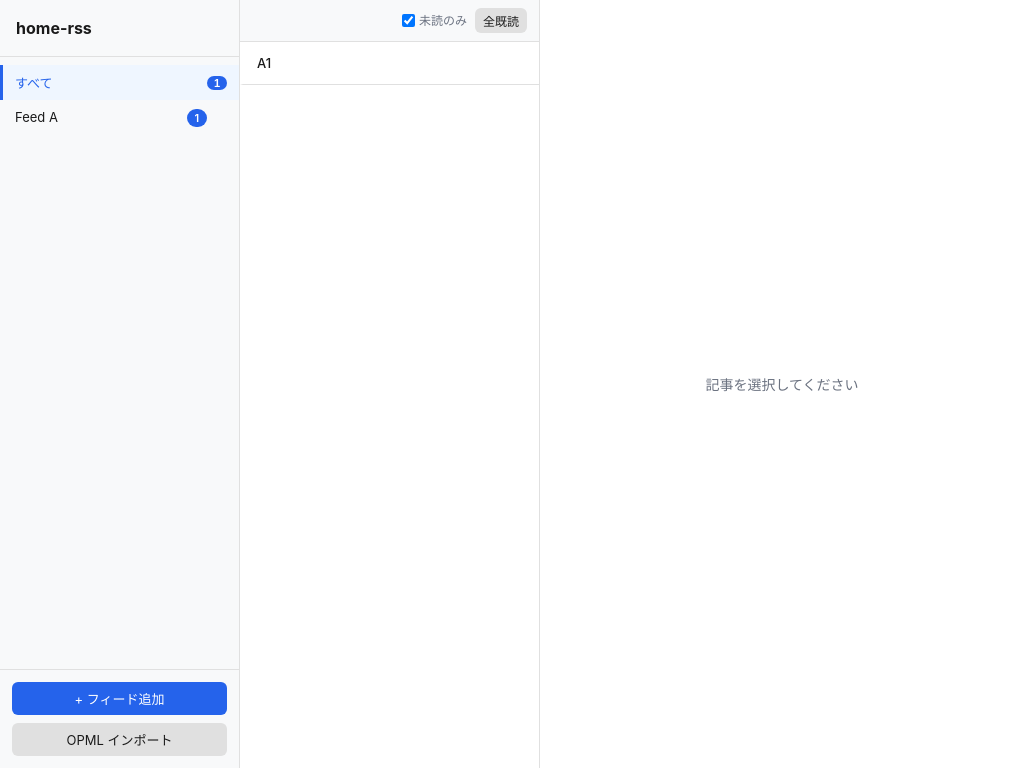
Test: App › adding a feed › still reloads the lists, and shows why, when the add fails
This screenshot has width=1024, height=768.
Click the button "+ フィード追加". click: (120, 698)
box: top-left (12, 682), bottom-right (227, 715)
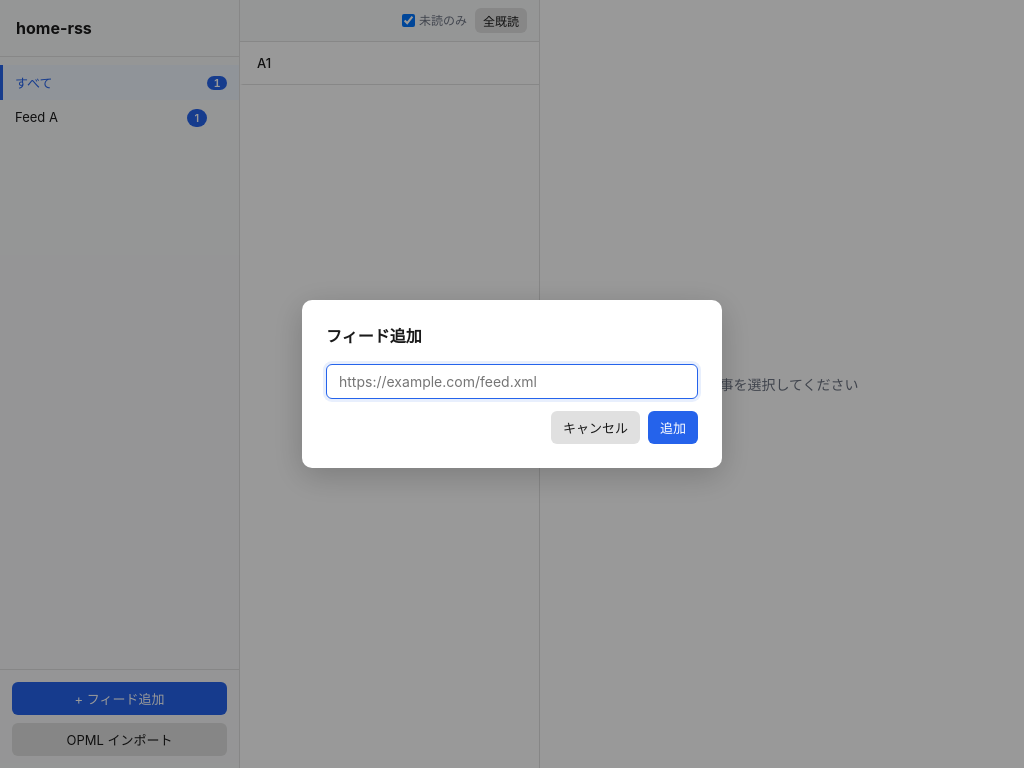
Type "https://fb.example/feed.xml" into the field with placeholder "https://example.com/feed.xml". click: (512, 382)
box: top-left (326, 364), bottom-right (698, 399)
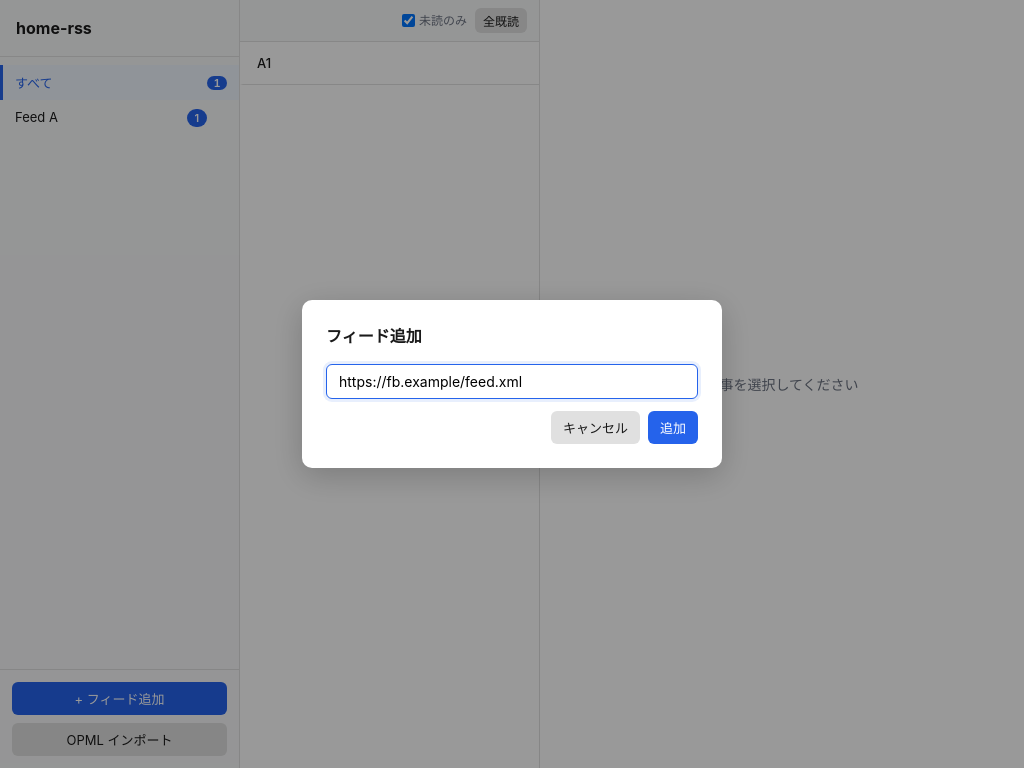
Click the button "追加". click: (673, 428)
box: top-left (648, 411), bottom-right (698, 444)
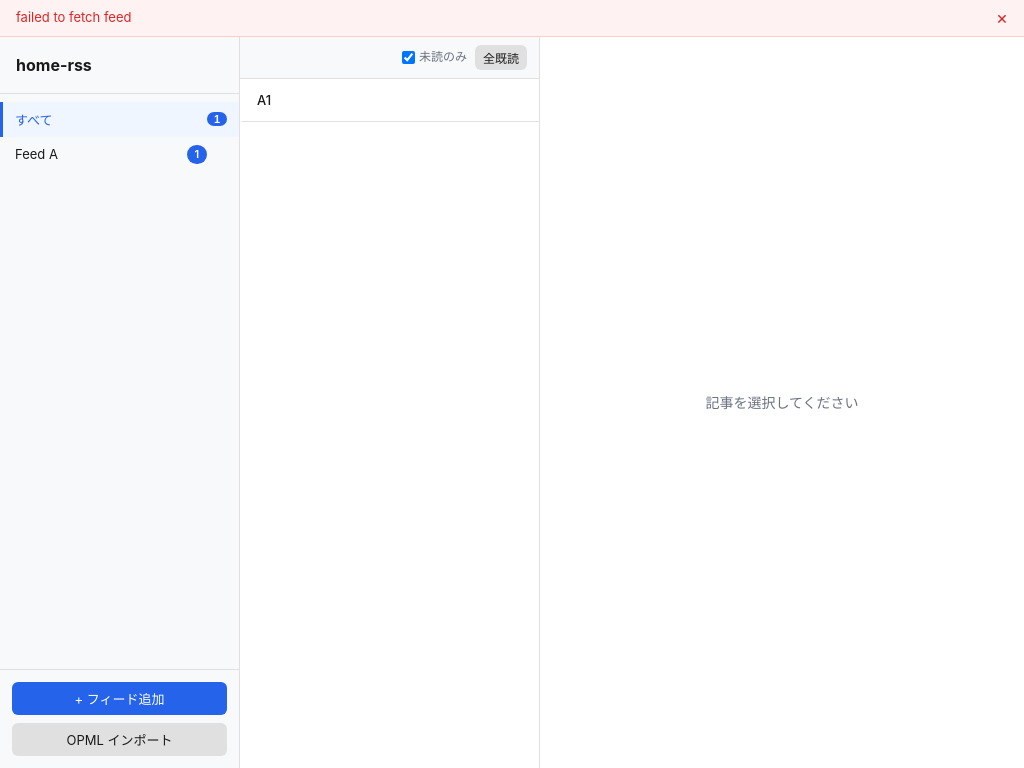
Expected: the field with placeholder "https://example.com/feed.xml" is not shown
Result: the element with class "error-banner" shows "failed to fetch feed" at top-left (16, 9), bottom-right (131, 25)
